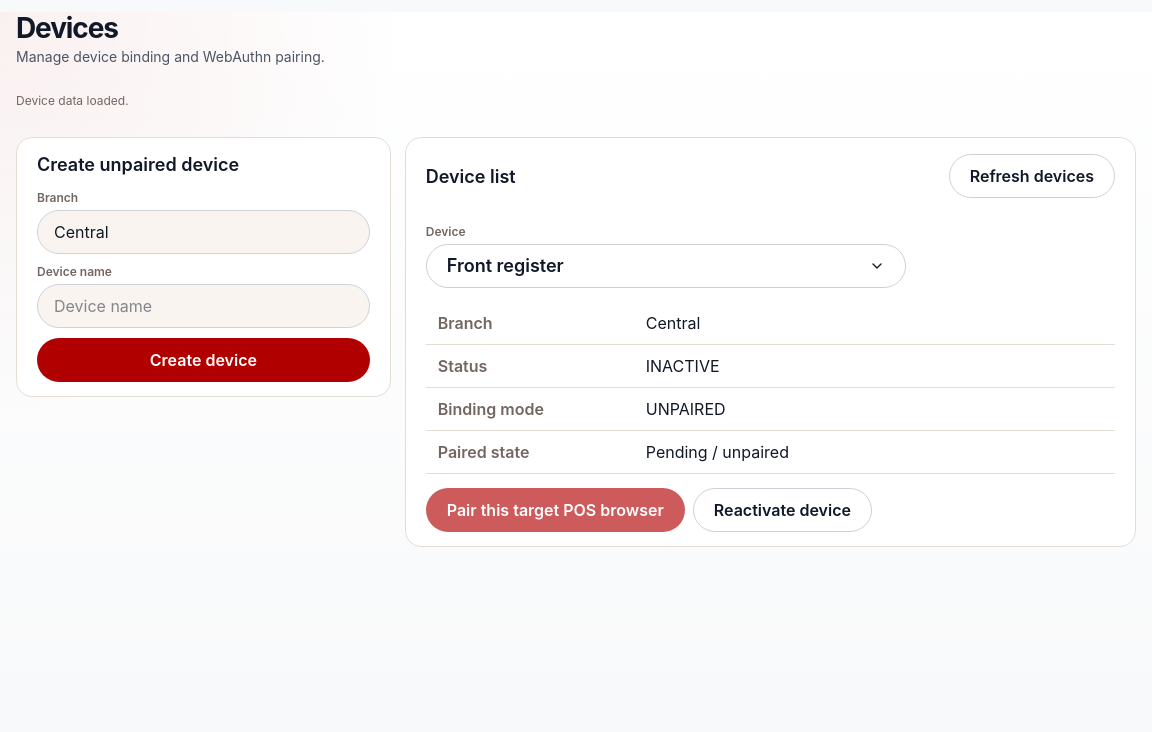
Test: DeviceManagement › shows a schema-specific explanation when reactivation fails on the server
Click the button "Reactivate device" at point(782, 510), box [693,488,872,532]
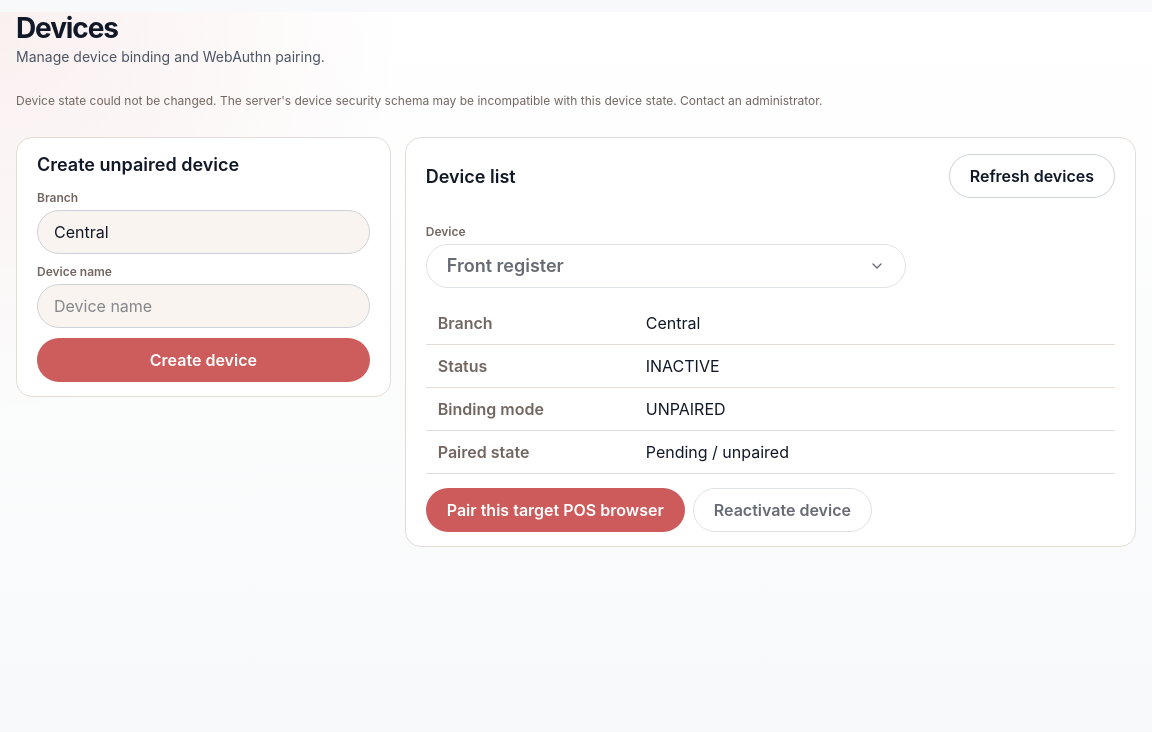
Expected: the text "device security schema may be incompatible with this device state" is shown, [16,93,822,108]
